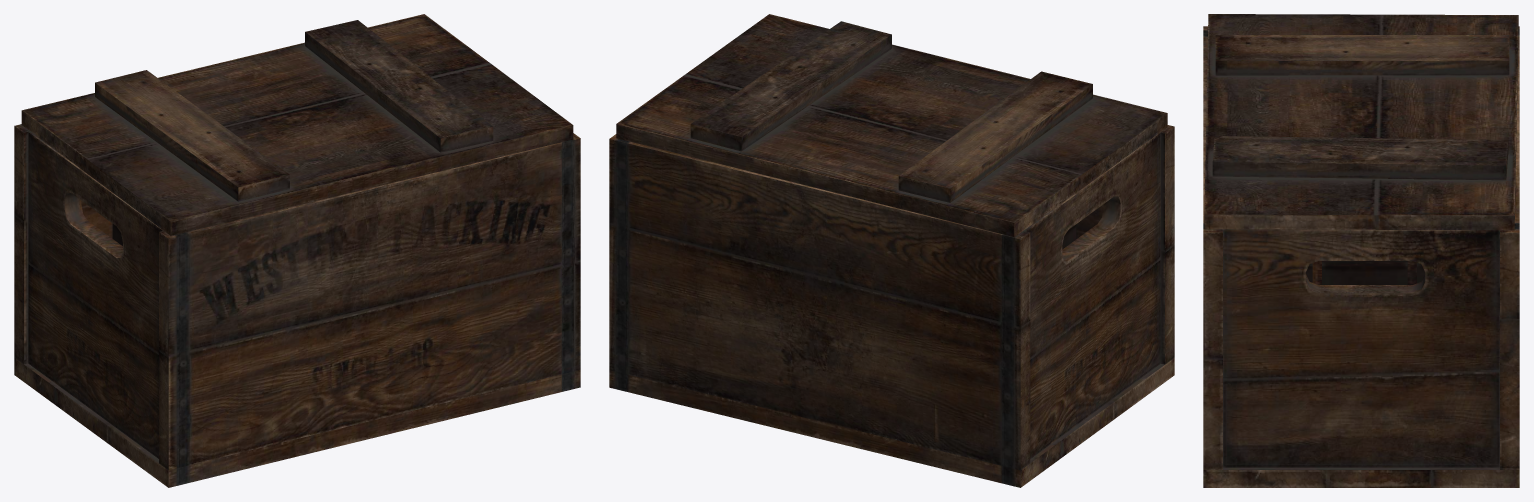
The model's file is Crate_closed.gltf.
3 views of the same model, side by side, from view 1: azimuth 30°, elevation 25°; view 2: azimuth 150°, elevation 25°; view 3: azimuth 270°, elevation 25° (orthographic). The views are drawn at different scales.
Parts seen in each view (by area): view 1: Crate_closed(Clone); view 2: Crate_closed(Clone); view 3: Crate_closed(Clone).
Boxes of the visible parts, bbox=[...] form: Crate_closed(Clone): bbox=[14, 14, 580, 487]; Crate_closed(Clone): bbox=[609, 14, 1174, 487]; Crate_closed(Clone): bbox=[1203, 14, 1519, 487].
Bounding box in the file's own units: 0.6126 × 0.3944 × 0.3975.
Materials: 1 (1 with a texture image).
